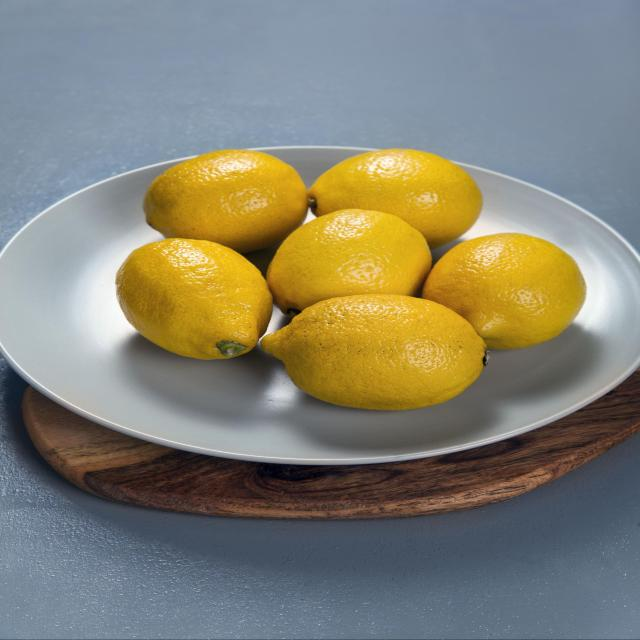lemon: (257, 291, 494, 413)
